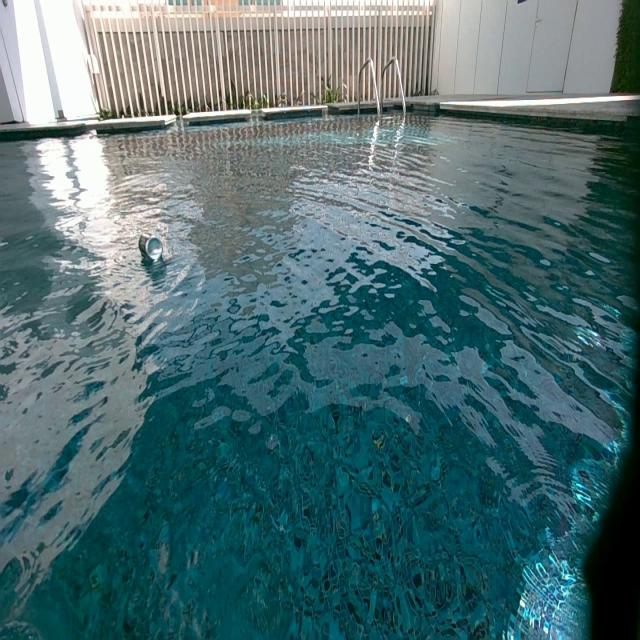Cans: (138, 231, 166, 263)
